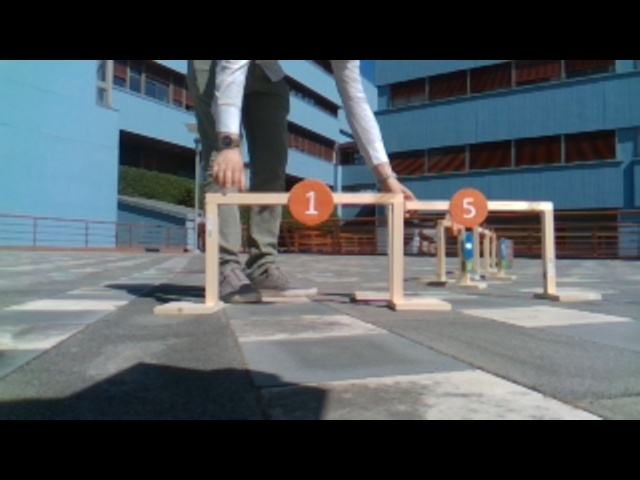checkpoint_foot: (151, 291, 227, 317), (389, 286, 452, 313), (535, 283, 607, 302)
checkpoint_side: (386, 187, 410, 302), (202, 189, 225, 304), (538, 199, 561, 291), (433, 220, 449, 278)
checkpoint_signal: (203, 189, 407, 210), (407, 198, 561, 214)
five: (449, 186, 488, 227)
one: (283, 179, 337, 226)
